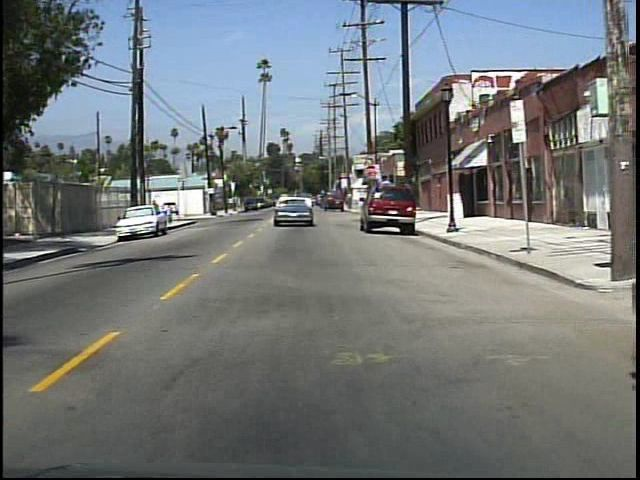person: (148, 195, 162, 225), (165, 200, 178, 225)
